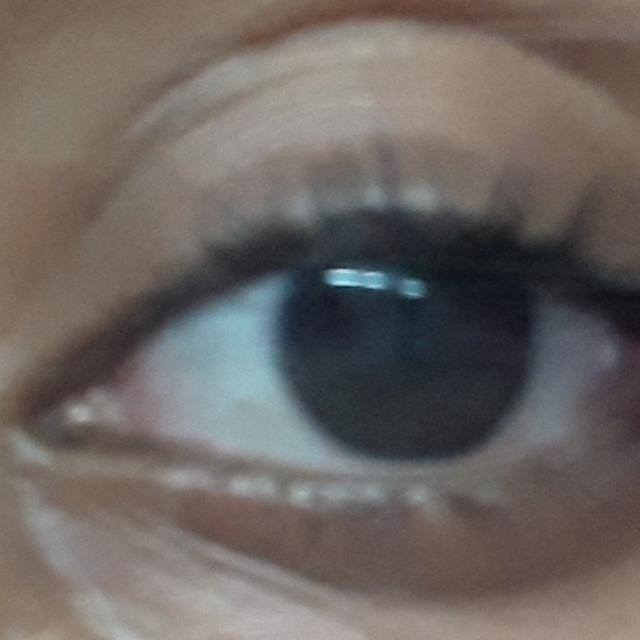eye: (107, 254, 634, 474)
iris: (280, 266, 536, 456)
